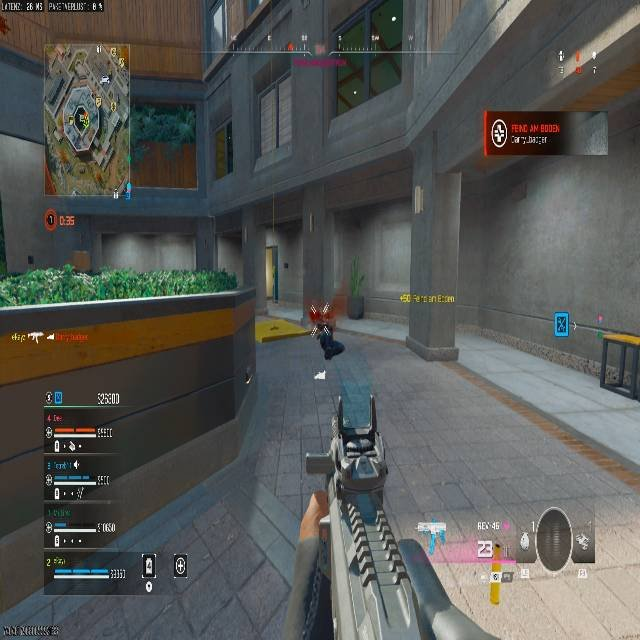player: (309, 303, 342, 359), (314, 323, 339, 361)
